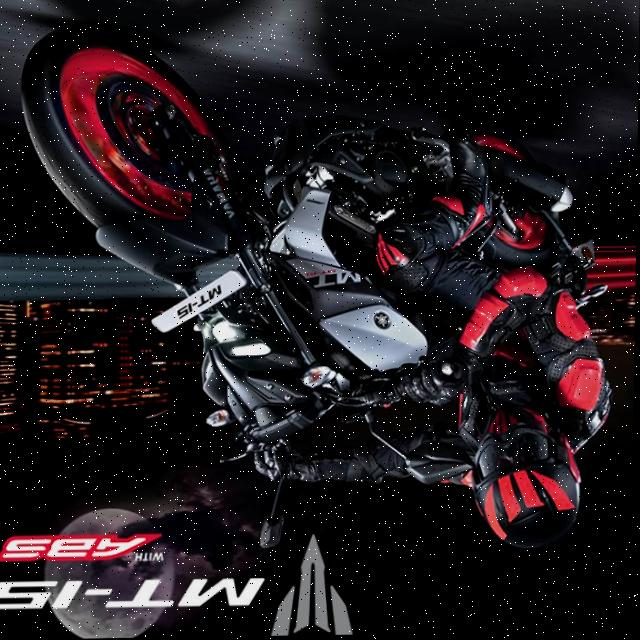plate: (152, 271, 247, 337)
